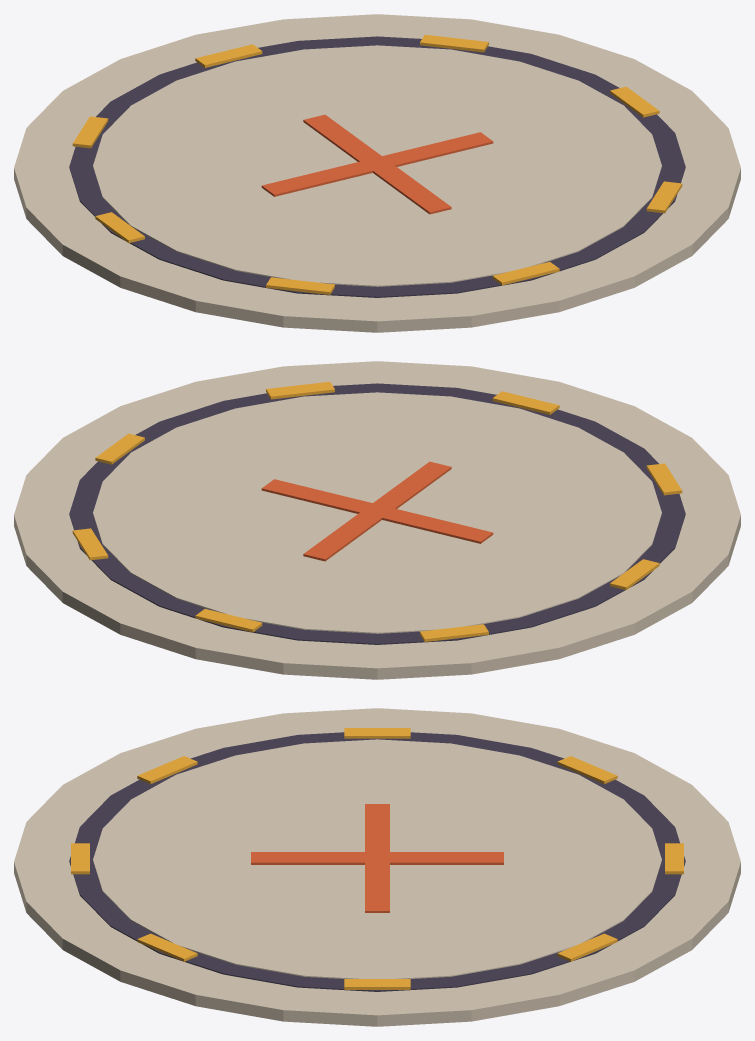
File: MOONSHIFT_ENV_Landing_Pad.glb
The picture shows the model from 3 angles, top to bottom: view 1: azimuth 30°, elevation 25°; view 2: azimuth 150°, elevation 25°; view 3: azimuth 270°, elevation 25°; orthographic projection.
Parts seen in each view (by area): view 1: Pad_Inner, Pad_Disc, Pad_Ring, Pad_CrossA, Pad_CrossB, Pad_Mark1, Pad_Mark5, Pad_Mark2, Pad_Mark6, Pad_Mark0, Pad_Mark4, Pad_Mark3 (+1 smaller); view 2: Pad_Inner, Pad_Disc, Pad_Ring, Pad_CrossA, Pad_CrossB, Pad_Mark7, Pad_Mark3, Pad_Mark6, Pad_Mark2, Pad_Mark0, Pad_Mark4, Pad_Mark5 (+1 smaller); view 3: Pad_Inner, Pad_Disc, Pad_Ring, Pad_CrossB, Pad_CrossA, Pad_Mark3, Pad_Mark5, Pad_Mark1, Pad_Mark7, Pad_Mark0, Pad_Mark4, Pad_Mark2 (+1 smaller).
Part boxes in pixels (x1,y1,x2,y2): Pad_Inner: (93,45,661,286); Pad_Disc: (14,14,740,332); Pad_Ring: (69,36,685,297); Pad_CrossA: (261,132,493,196); Pad_CrossB: (303,114,451,214); Pad_Mark1: (420,34,488,52); Pad_Mark5: (266,277,334,294); Pad_Mark2: (195,44,262,67); Pad_Mark6: (492,262,559,285); Pad_Mark0: (610,86,659,117); Pad_Mark4: (95,212,144,243); Pad_Mark3: (72,116,108,148); Pad_Inner: (93,392,661,633); Pad_Disc: (14,361,740,679); Pad_Ring: (69,383,685,644); Pad_CrossA: (261,479,493,543); Pad_CrossB: (303,461,451,561); Pad_Mark7: (266,381,334,399); Pad_Mark3: (420,624,488,641); Pad_Mark6: (492,391,559,414); Pad_Mark2: (195,609,262,632); Pad_Mark0: (95,433,144,464); Pad_Mark4: (610,559,659,590); Pad_Mark5: (646,463,682,495); Pad_Inner: (93,739,661,978); Pad_Disc: (14,708,740,1026); Pad_Ring: (69,732,685,991); Pad_CrossB: (251,852,503,864); Pad_CrossA: (365,804,389,912); Pad_Mark3: (557,756,617,784); Pad_Mark5: (137,756,197,784); Pad_Mark1: (557,933,617,961); Pad_Mark7: (137,933,197,961); Pad_Mark0: (344,979,410,989); Pad_Mark4: (344,728,410,738); Pad_Mark2: (665,843,683,874).
Size of the model in its own units: 4.6 by 0.11 by 4.6.
